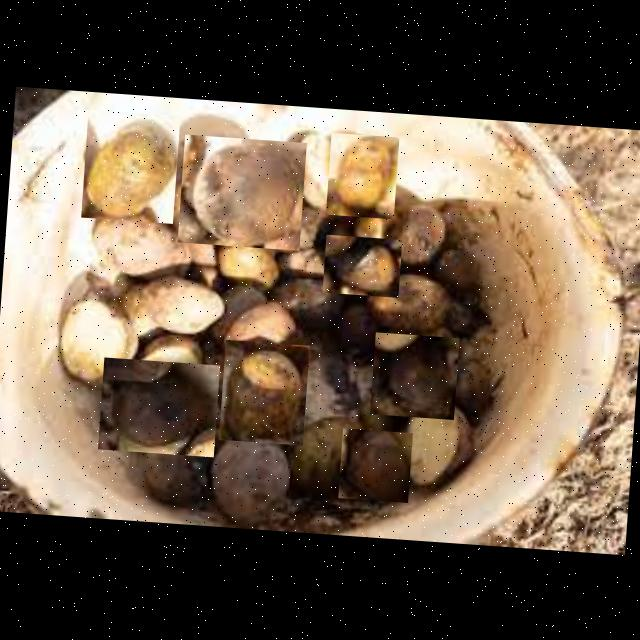Damaged potato: (177, 134, 306, 250), (98, 357, 220, 457), (81, 110, 180, 223), (218, 340, 310, 446), (204, 426, 294, 528), (370, 332, 460, 419), (360, 262, 462, 336), (325, 132, 399, 219), (134, 429, 230, 496), (138, 270, 225, 340), (142, 268, 226, 340), (338, 428, 412, 502), (268, 266, 350, 328), (322, 235, 402, 298), (388, 196, 456, 270)
